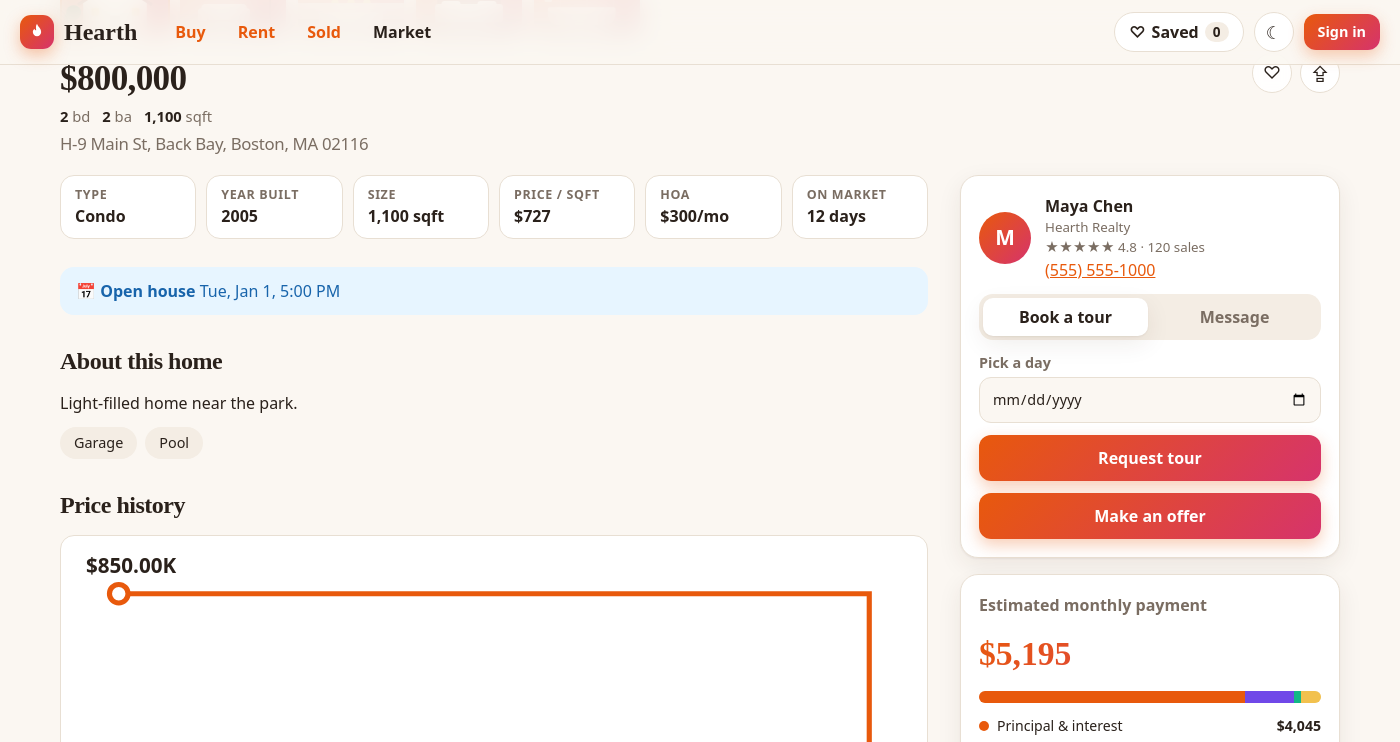
Test: listing page (stubbed) › tour booking shows a friendly message on 409 and a confirmation on 201
The image size is (1400, 742).
(page scrolled)
Type "2030-01-02" into the date field named "date".
click(1150, 400); type("2030-01-02")  # box x1=979 y1=377 x2=1321 y2=423
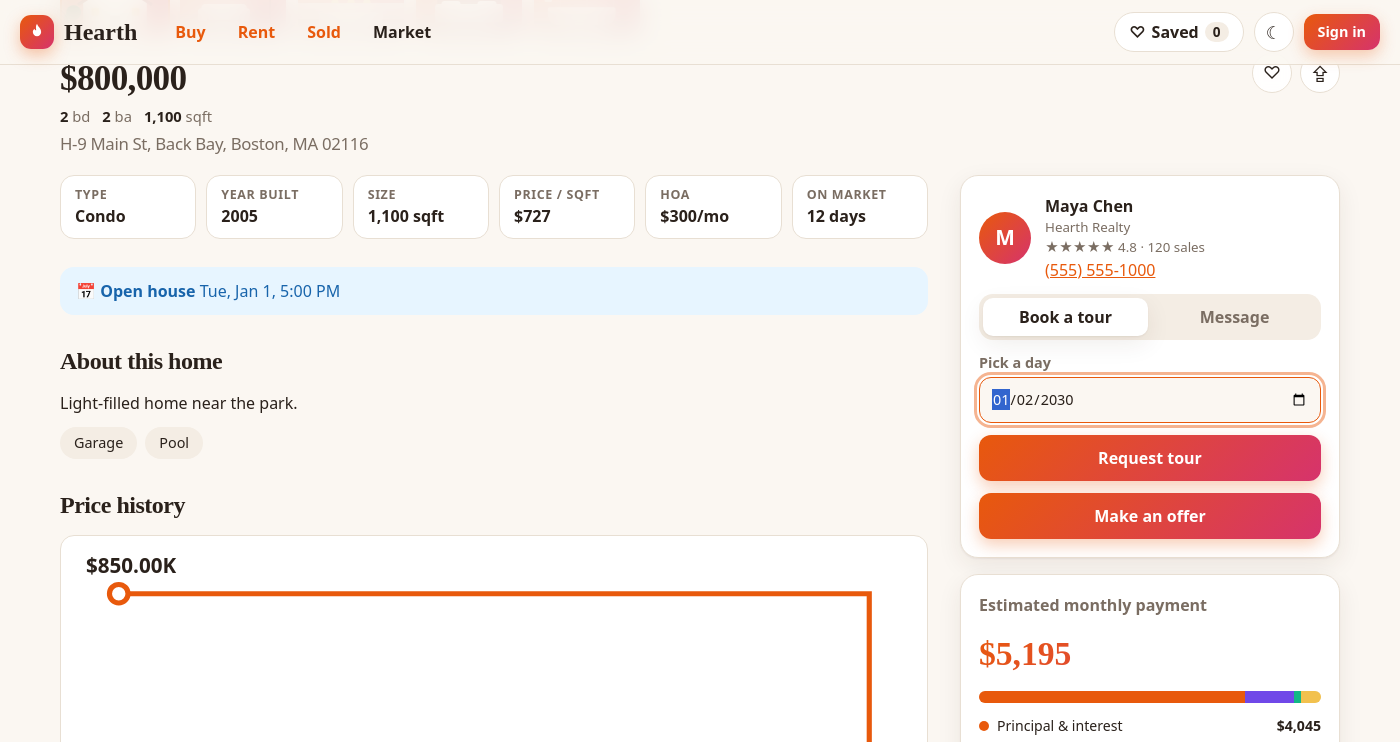
Click the button "Request tour".
click(1150, 458)  # box x1=979 y1=435 x2=1321 y2=481
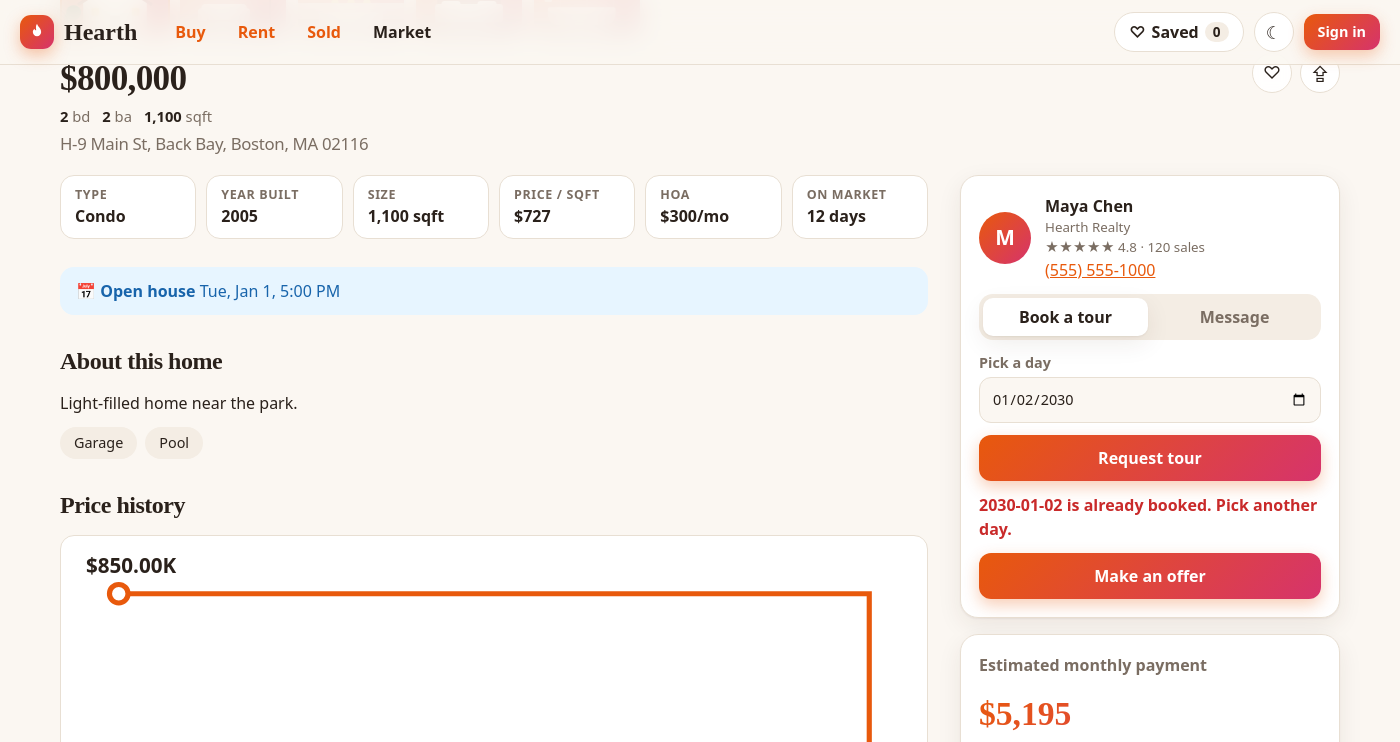
expect the message with test id "tour-result" shows "already booked": met, box x1=979 y1=494 x2=1317 y2=540
Type "2030-01-03" into the date field named "date".
click(1150, 400); type("2030-01-03")  # box x1=979 y1=377 x2=1321 y2=423
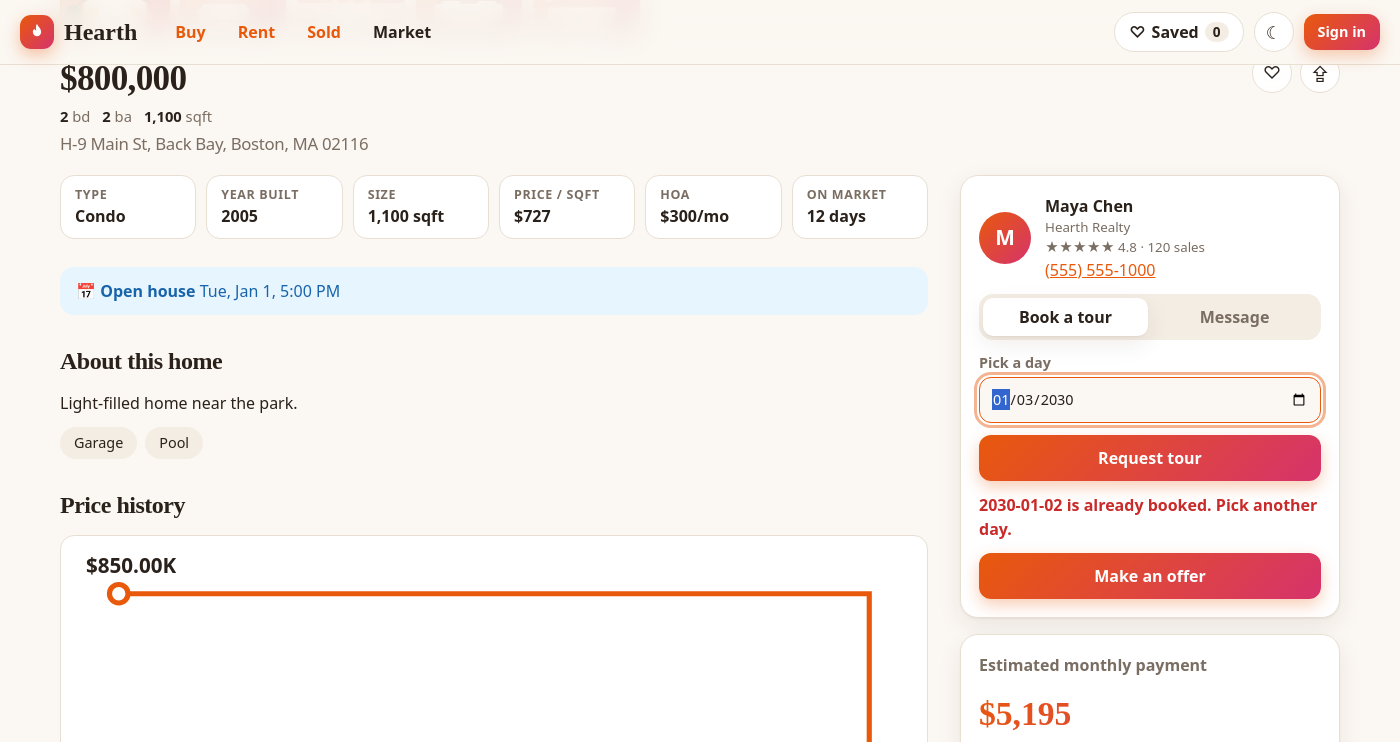
Click the button "Request tour".
click(1150, 458)  # box x1=979 y1=435 x2=1321 y2=481
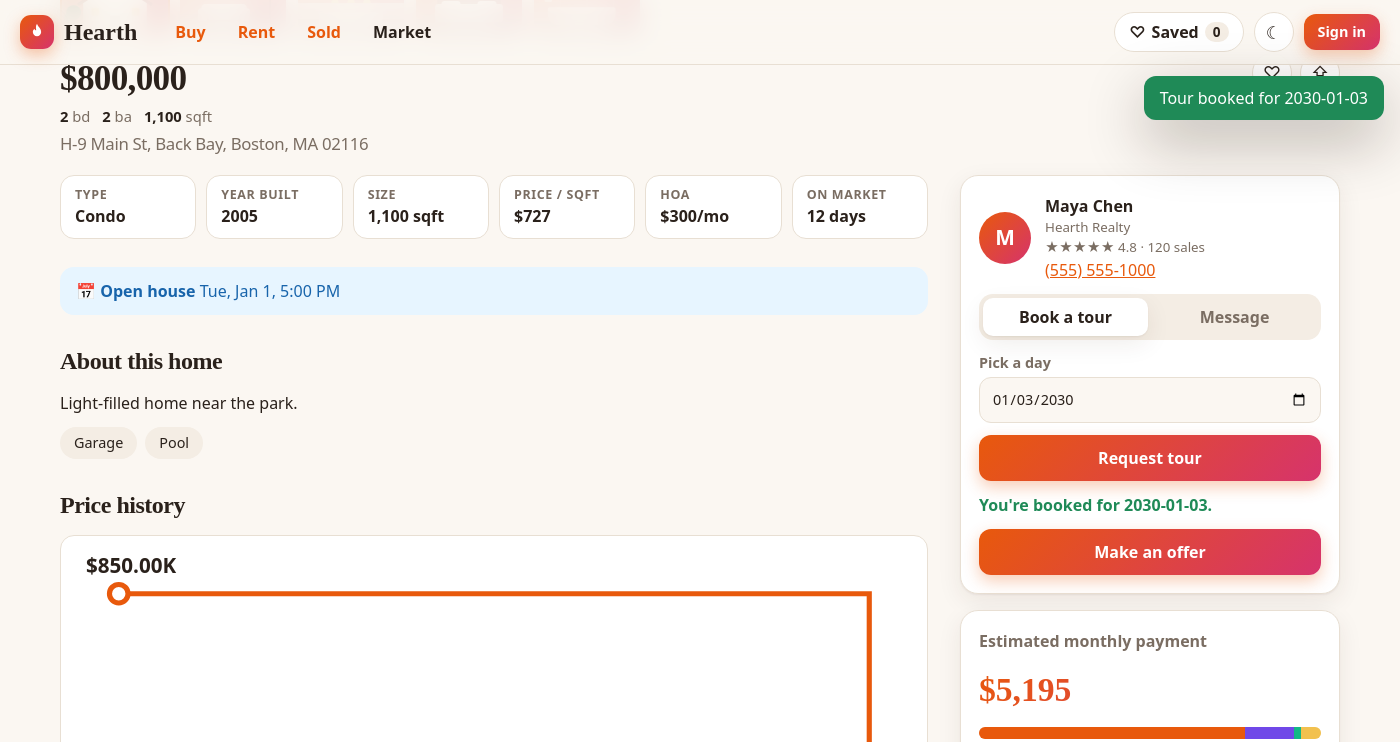
expect the message with test id "tour-result" shows "You're booked": met, box x1=979 y1=494 x2=1212 y2=516
